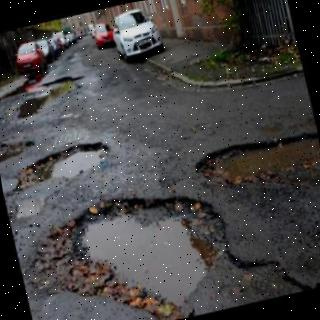pothole: (73, 196, 227, 307), (197, 134, 320, 185), (17, 142, 108, 190), (0, 140, 35, 162)
